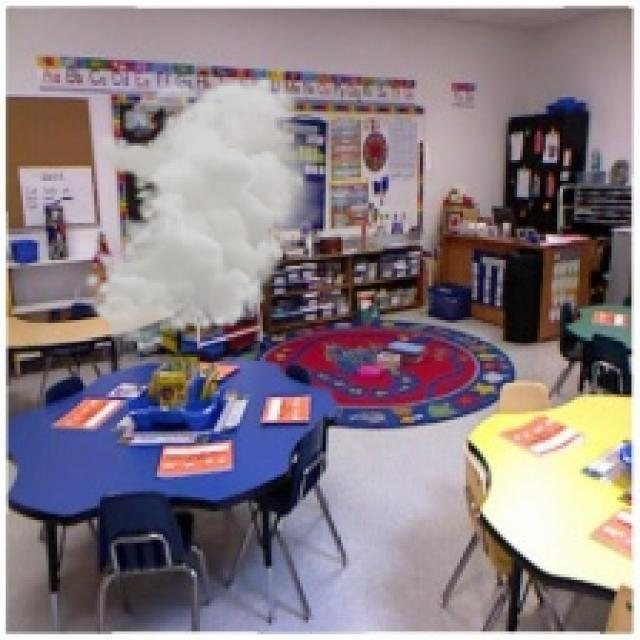Smoke: (82, 74, 332, 343)
